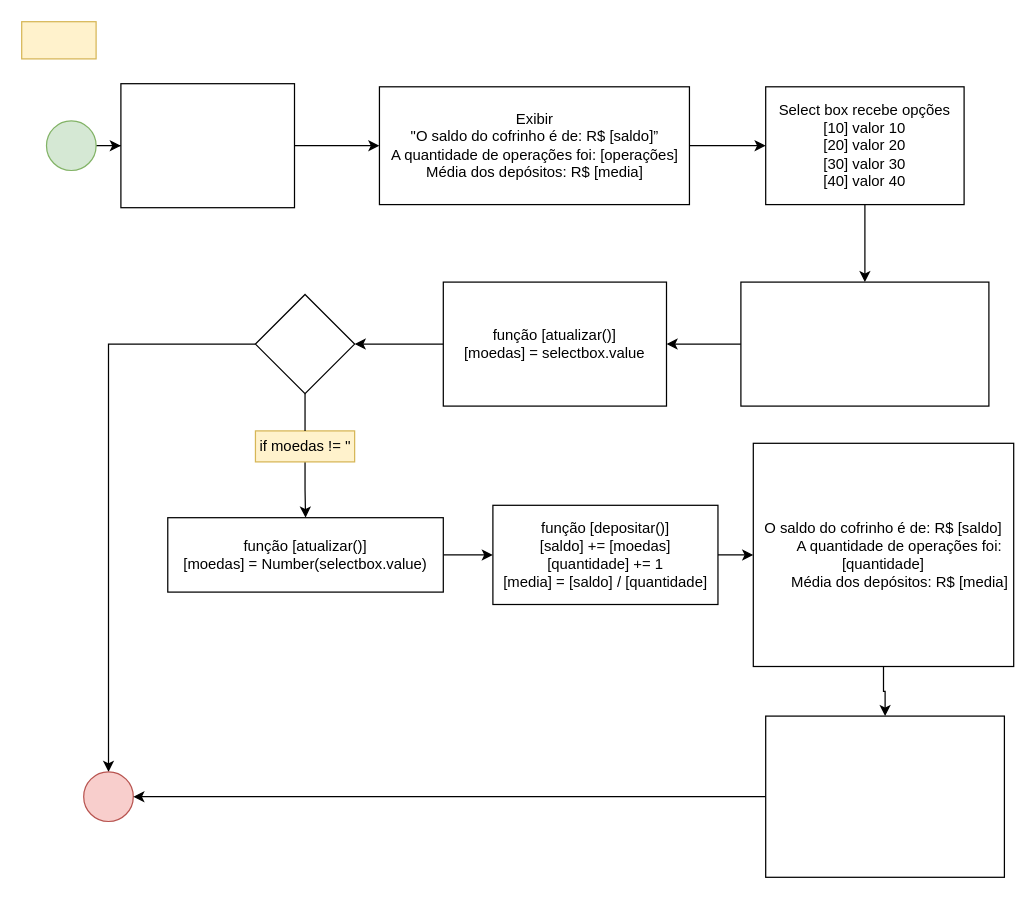
Some shapes in this 1035 by 899 pixel diagram are drawn without their labels. Each missing label, with the box of its shape:
[operações] = 0 [saldo] = 0 [media] = 0: (120, 82, 294, 208)
Botão Depositar = [depositar()] Botão Gastar grana = [gastar()]: (740, 281, 989, 406)
Ex12: (20, 20, 96, 59)
função [gastar()] Exibir = '' [saldo] = 0 [quantidade] = 0: (764, 715, 1004, 877)
